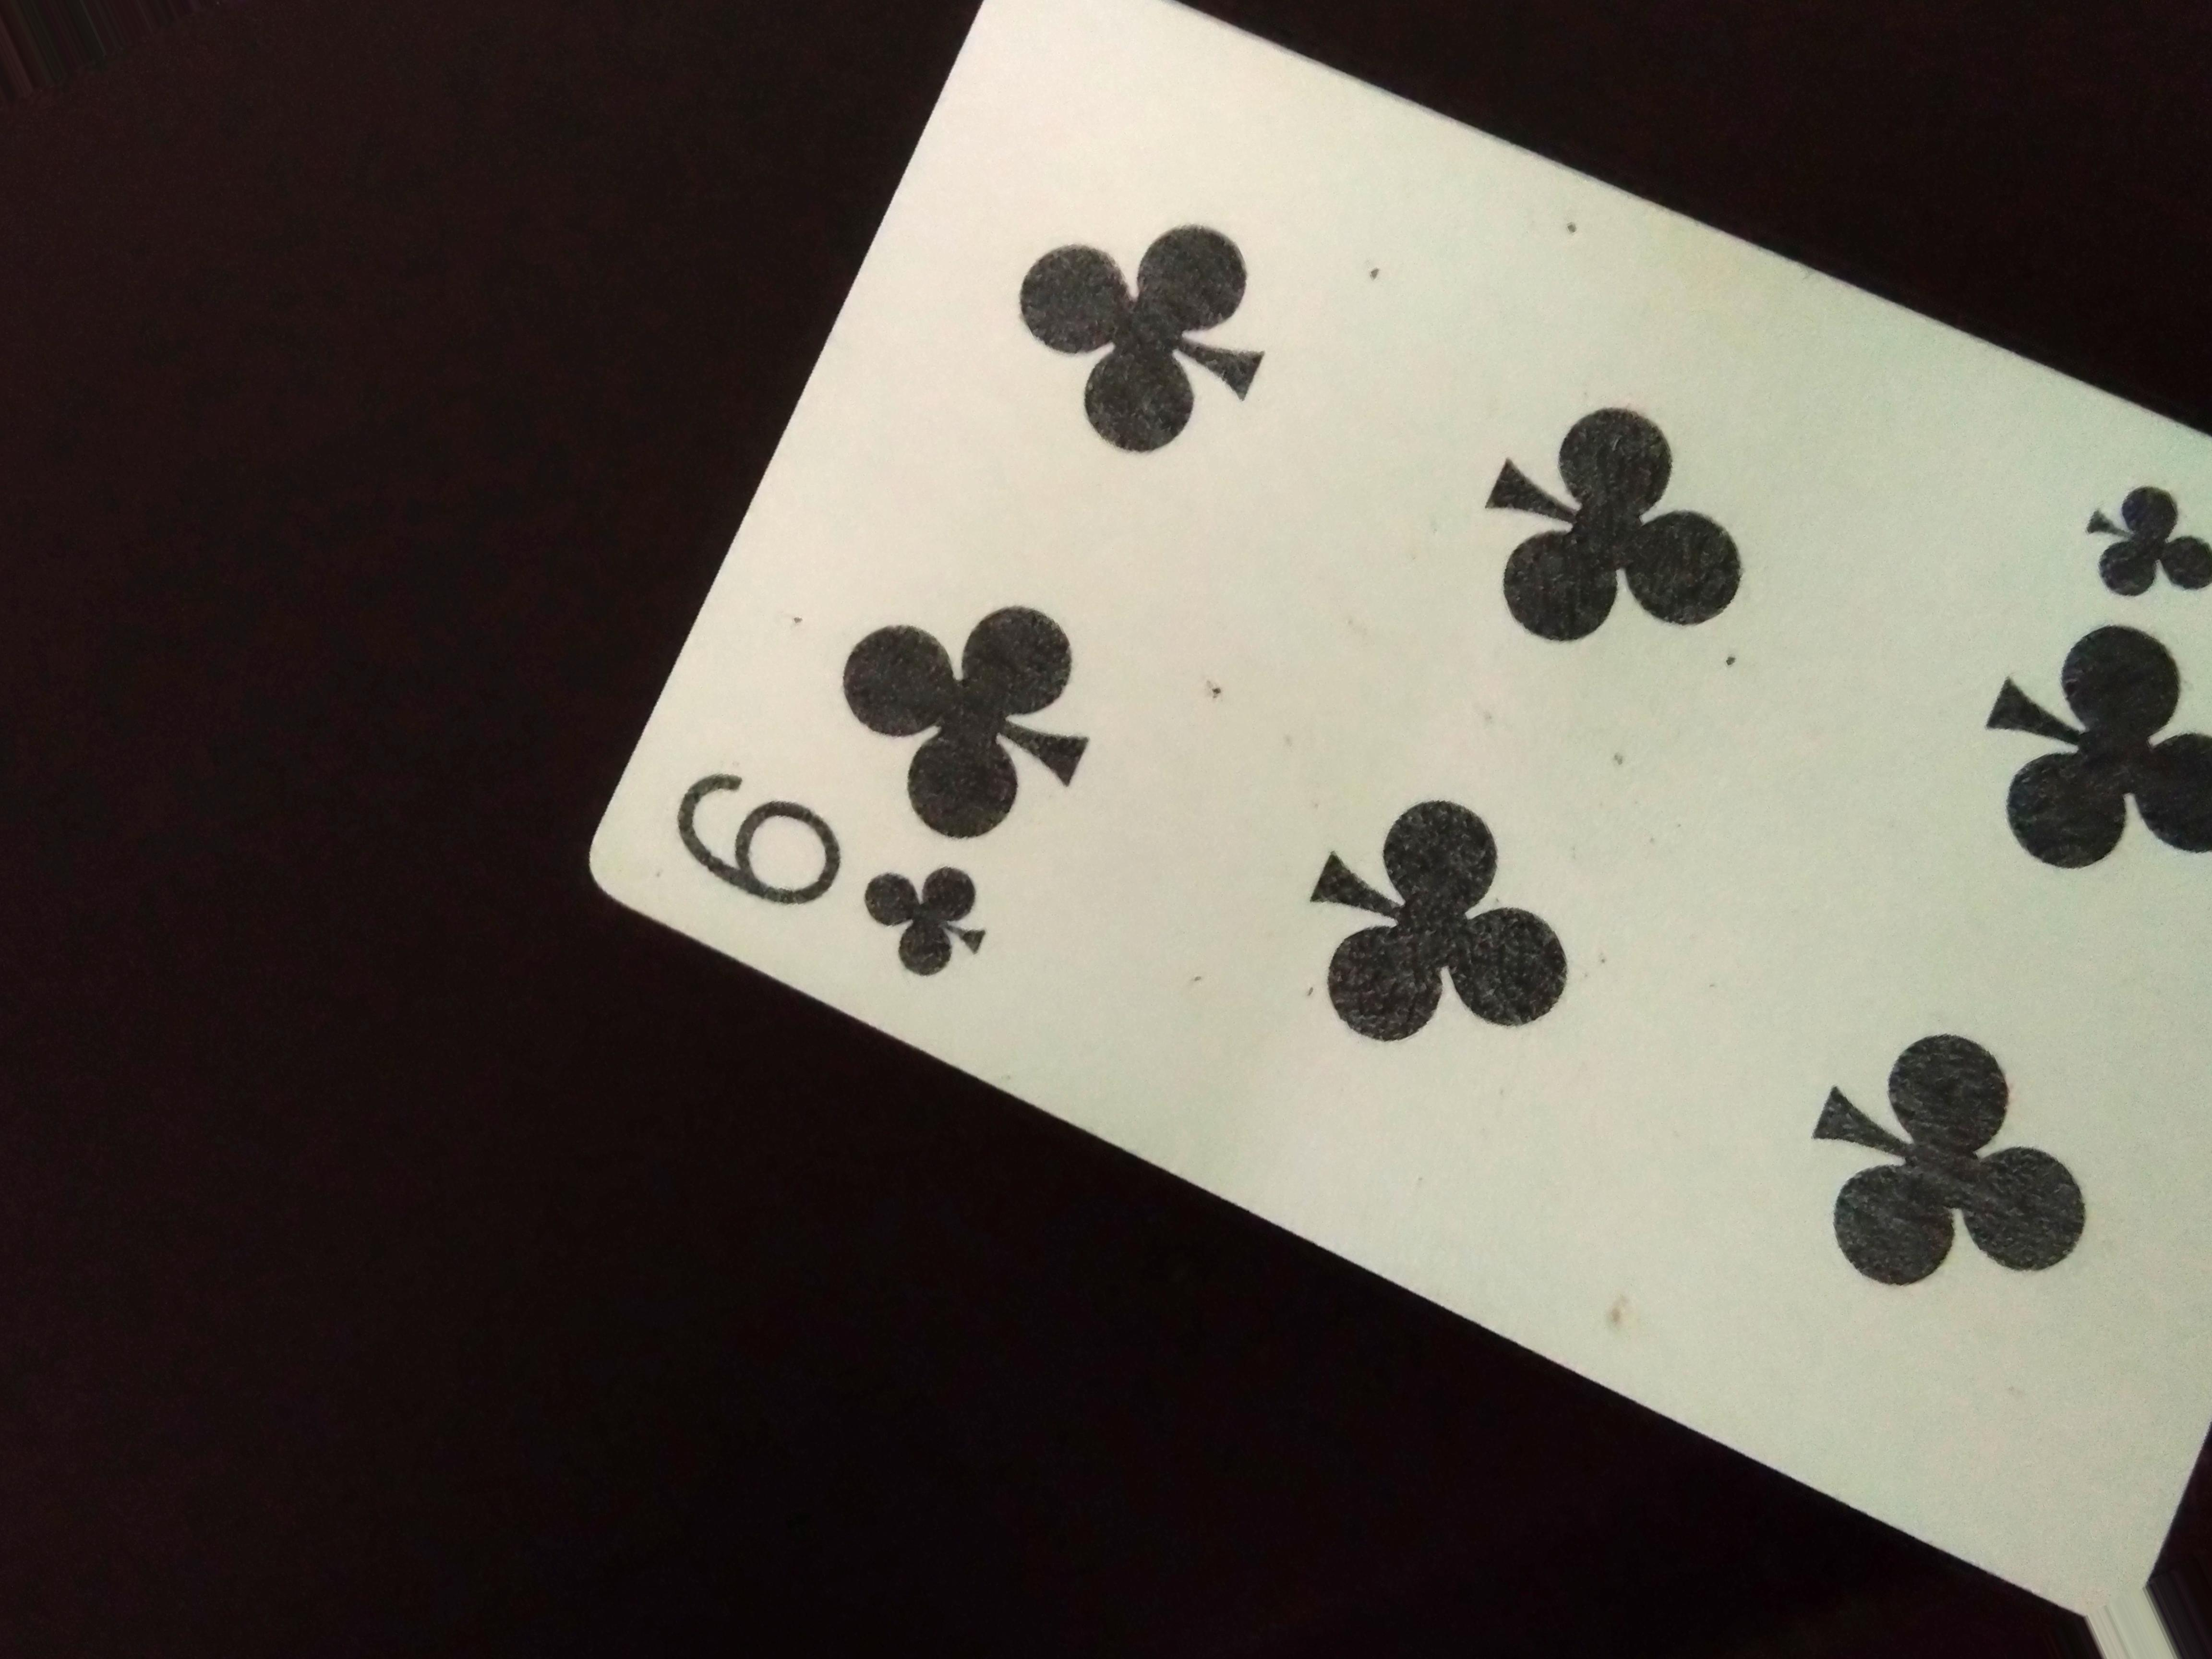6C: (674, 763, 1005, 1012)
